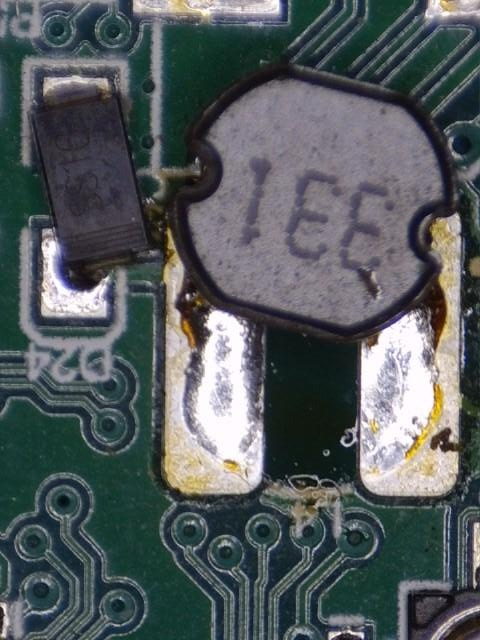pcb_defect: (162, 59, 462, 500), (25, 72, 153, 325)
